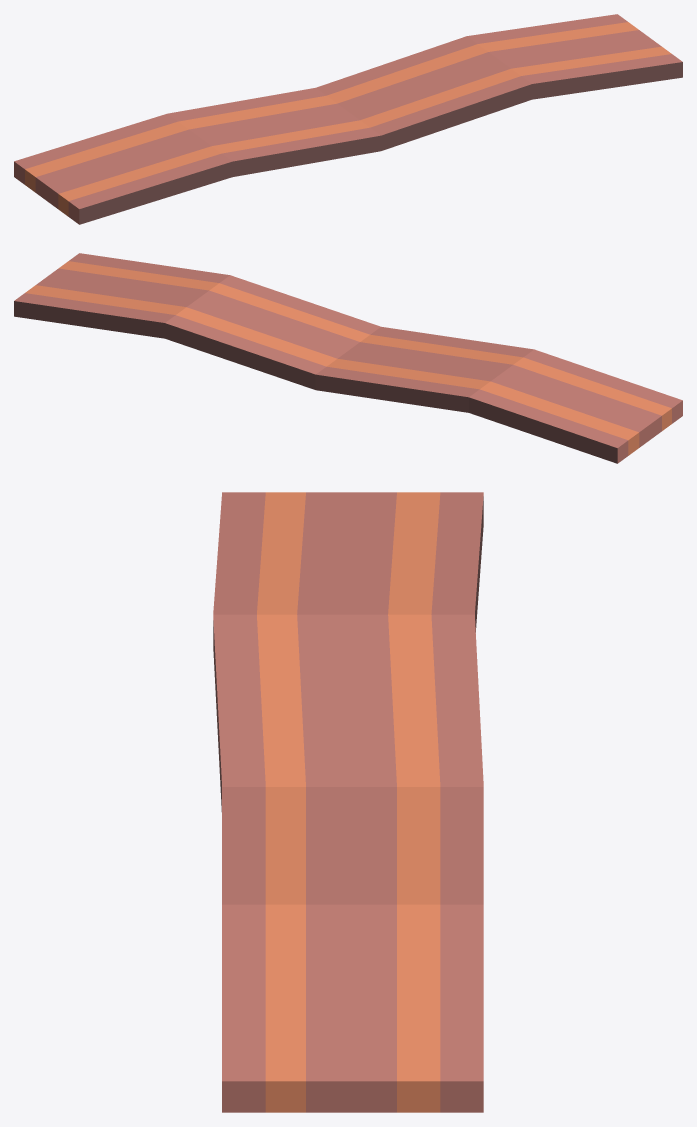
Rendered from Bacon Strip.fbx.
3 renders of one model, top to bottom at view 1: azimuth 30°, elevation 25°; view 2: azimuth 150°, elevation 25°; view 3: azimuth 270°, elevation 25°, orthographic. The views are drawn at different scales.
Parts seen in each view (by area): view 1: Bacon Strip; view 2: Bacon Strip; view 3: Bacon Strip.
Part boxes in pixels (x1,y1,x2,y2): Bacon Strip: [14, 14, 682, 224]; Bacon Strip: [14, 253, 682, 463]; Bacon Strip: [213, 492, 483, 1112].
Size of the model in its own units: 40.21 by 1.93 by 7.81.
